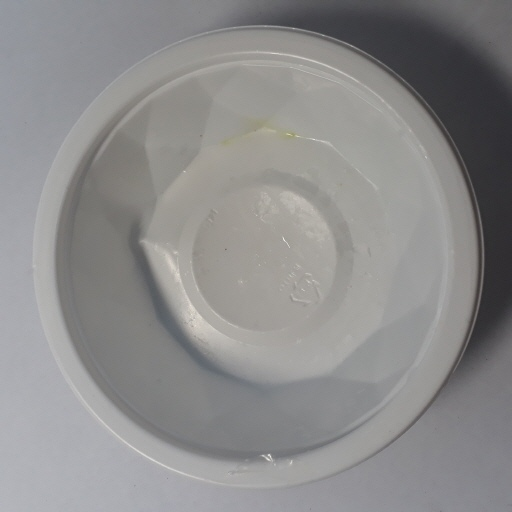Plastic_5: (32, 24, 488, 492)
